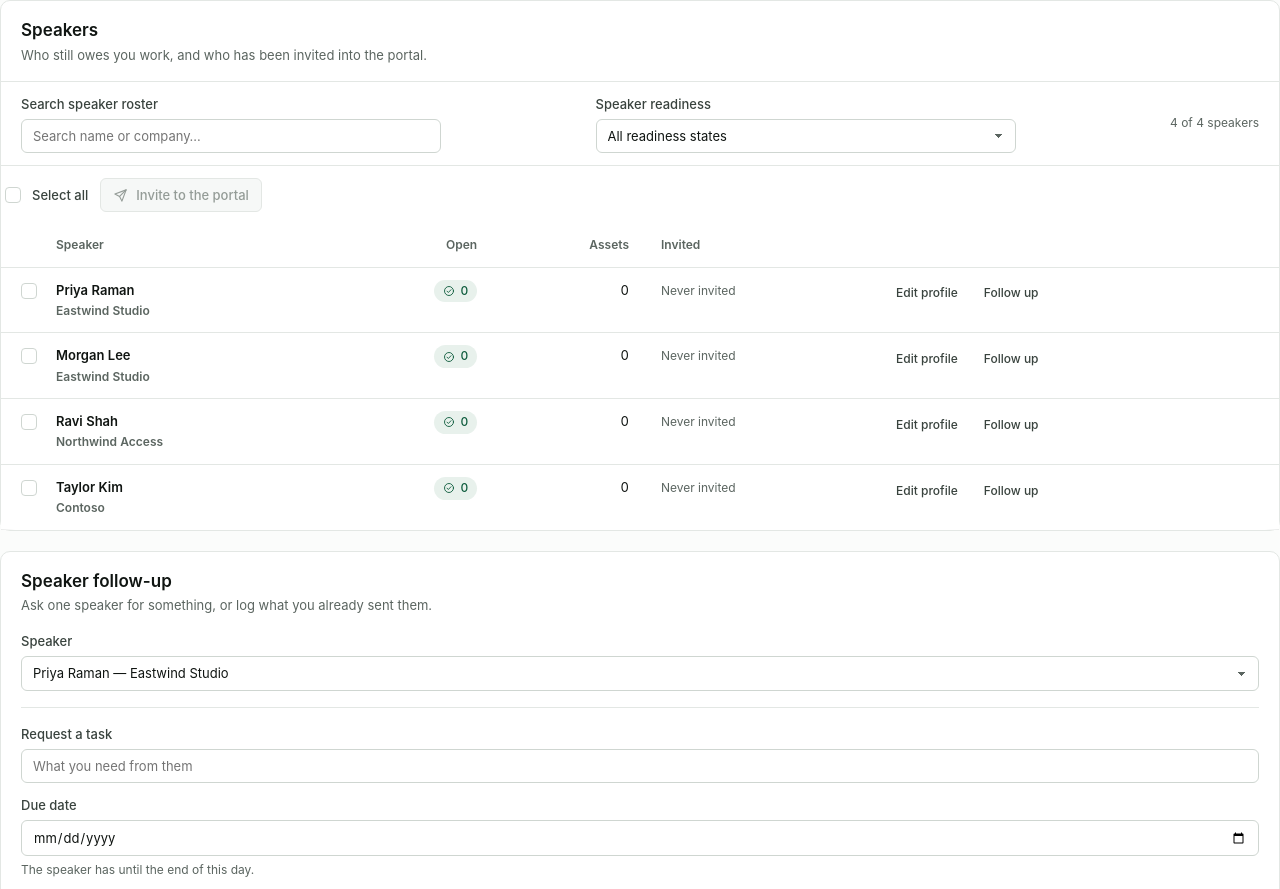
Scenario: the accepted-speaker roster › shows an explicit empty state and selects only the filtered roster
Type "Eastwind" into the search field labelled "Search speaker roster".
click(231, 136); type("Eastwind")  # box [21,119,441,153]
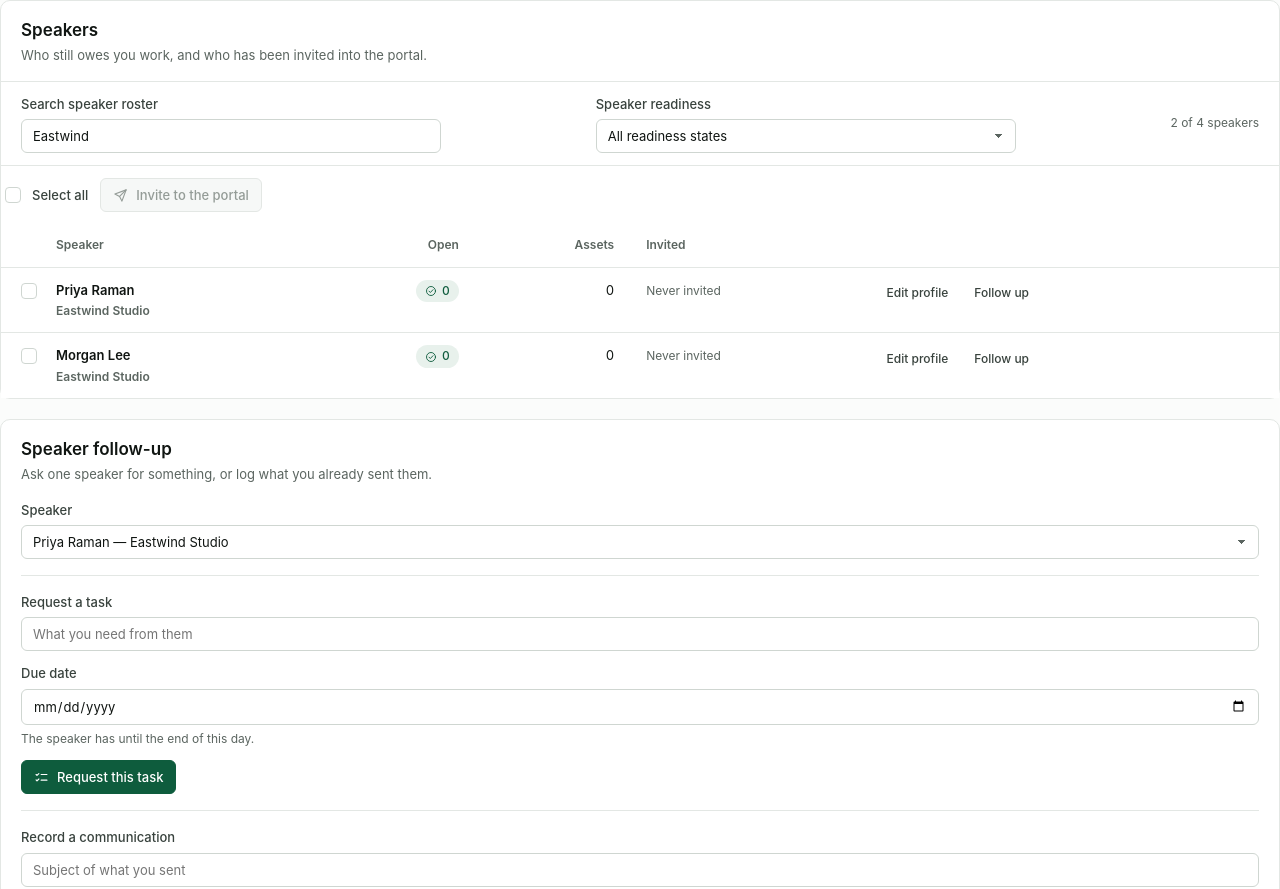
Click the checkbox named "Select every speaker on this roster".
click(13, 195)  # box [5,187,21,203]
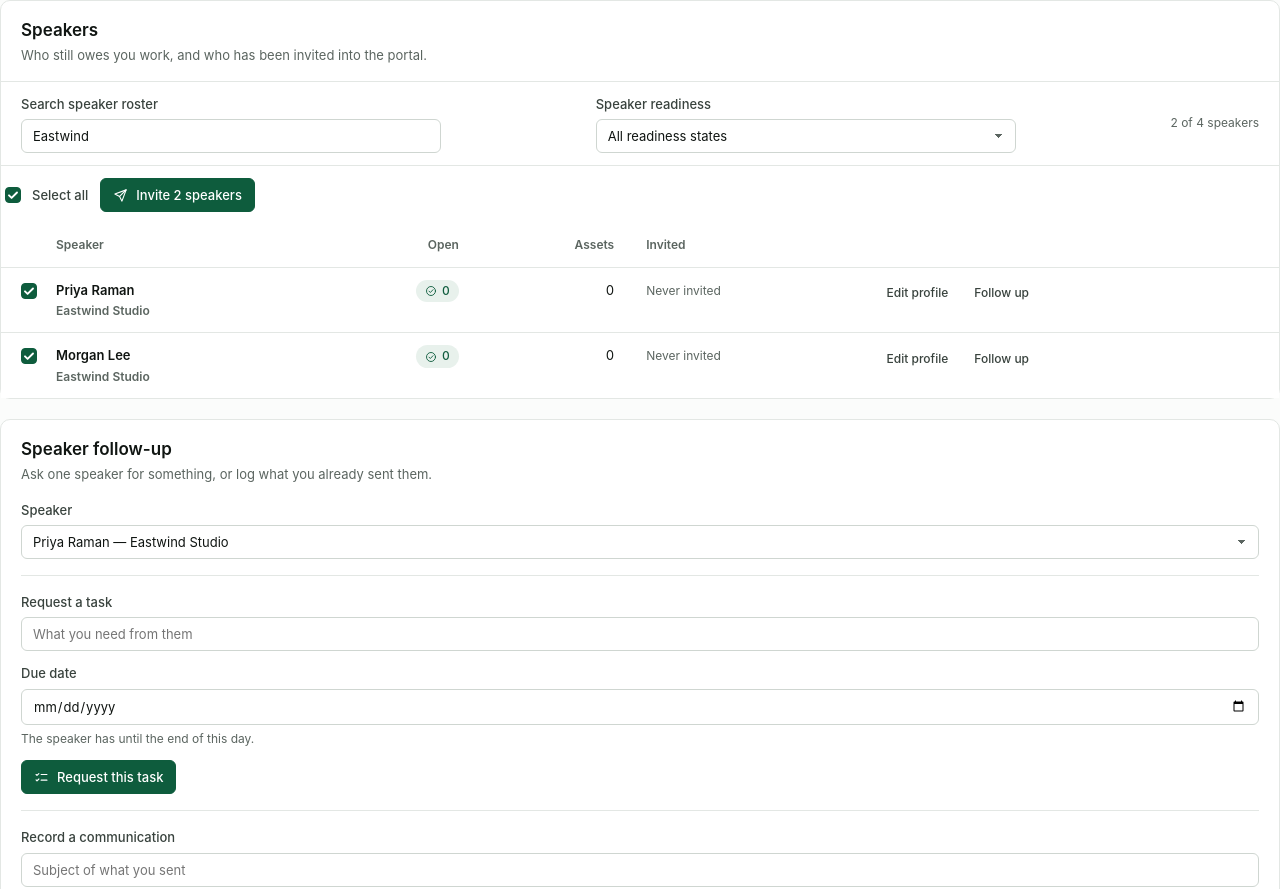
Check: the button "Invite 2 speakers" is enabled, box [100,178,255,212]
Select "Blocked" in the dropdown labelled "Speaker readiness" at (806, 136), box [596,119,1016,153]
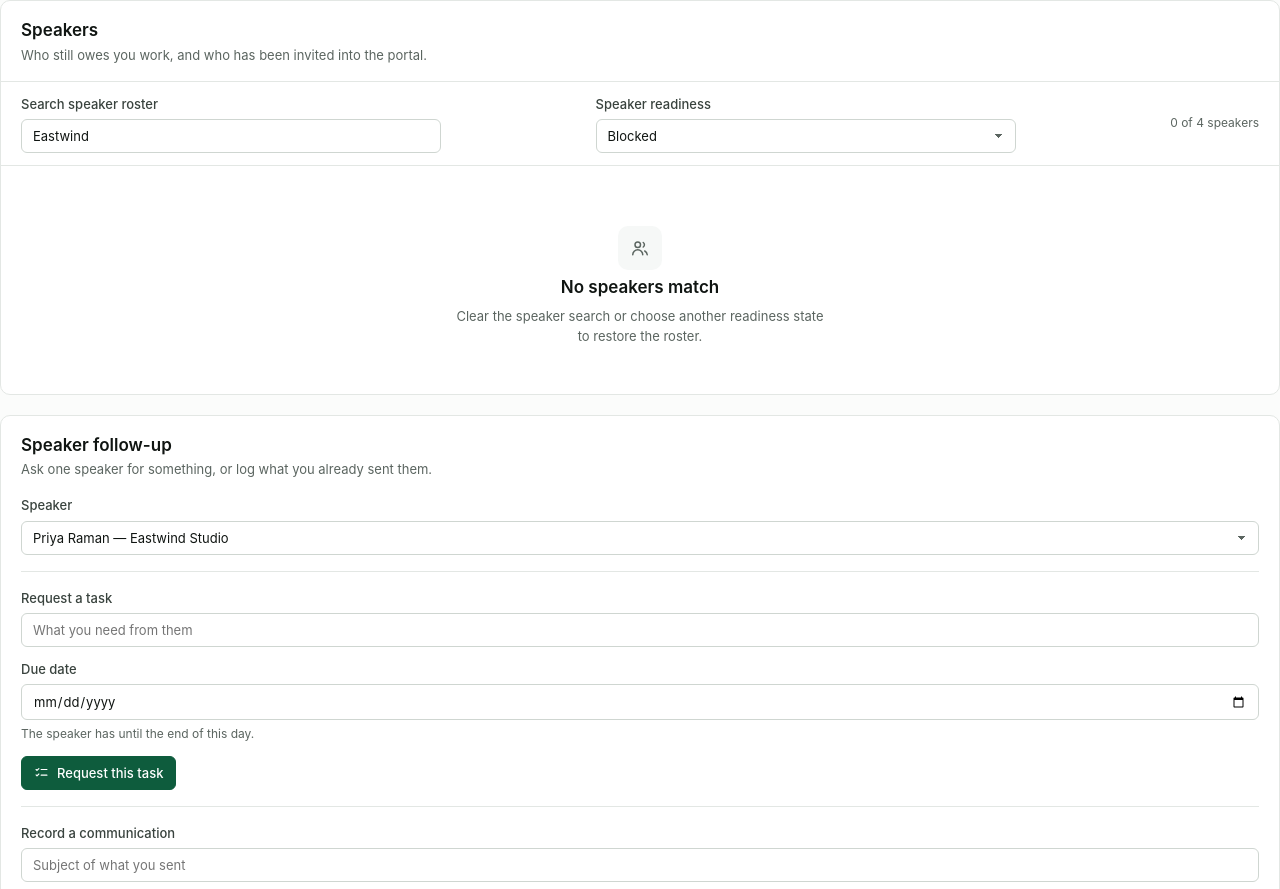
Check: the heading "No speakers match" is shown, box [561,278,719,298]
